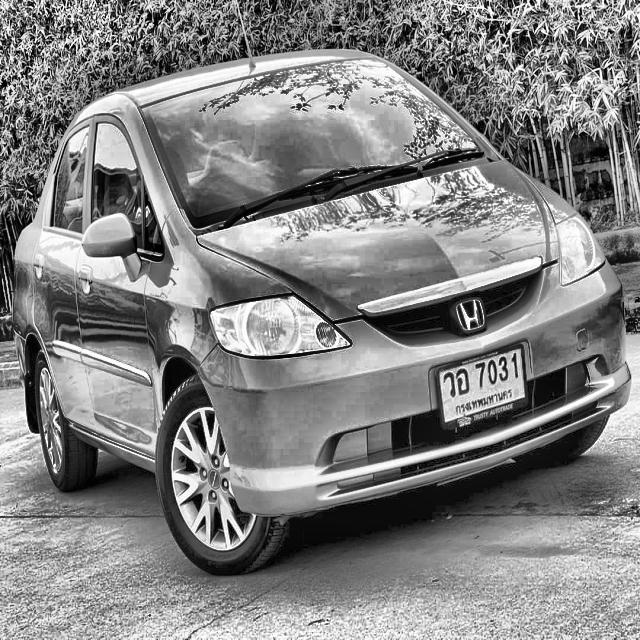license-plate: (432, 340, 530, 439)
